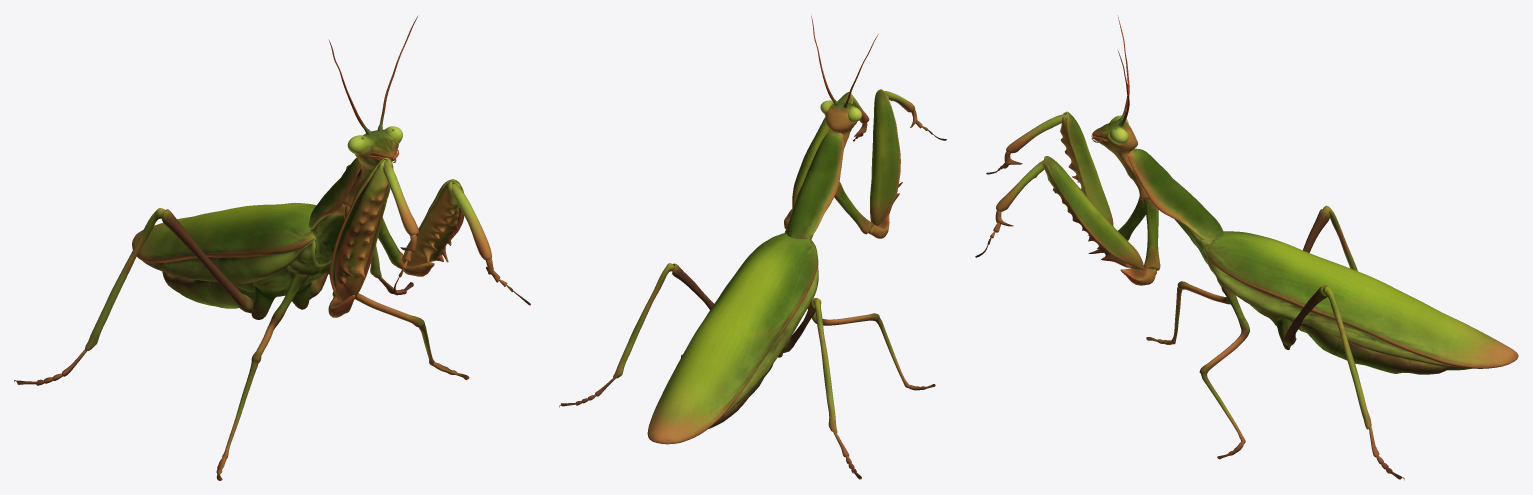
Rendered from mantis.glb.
3 renders of one model, left to right at view 1: azimuth 30°, elevation 25°; view 2: azimuth 150°, elevation 25°; view 3: azimuth 270°, elevation 25°, orthographic. The views are drawn at different scales.
Parts seen in each view (by area): view 1: boxing_mantis.1; view 2: boxing_mantis.1; view 3: boxing_mantis.1.
Part boxes in pixels (bbox=[...]): boxing_mantis.1: bbox=[14, 15, 530, 480]; boxing_mantis.1: bbox=[559, 14, 946, 479]; boxing_mantis.1: bbox=[975, 15, 1518, 480].
Size of the model in its own units: 0.0873 by 0.0917 by 0.1233.
Materials: 1 (1 with a texture image).
